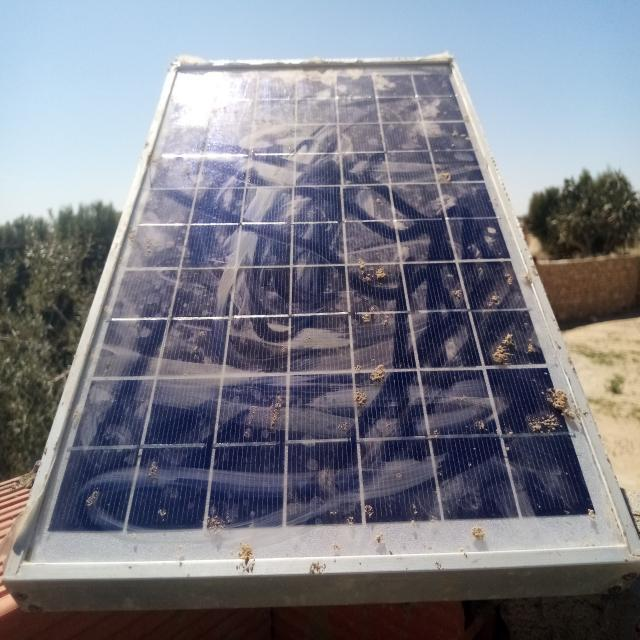faulty: (12, 59, 634, 568)
